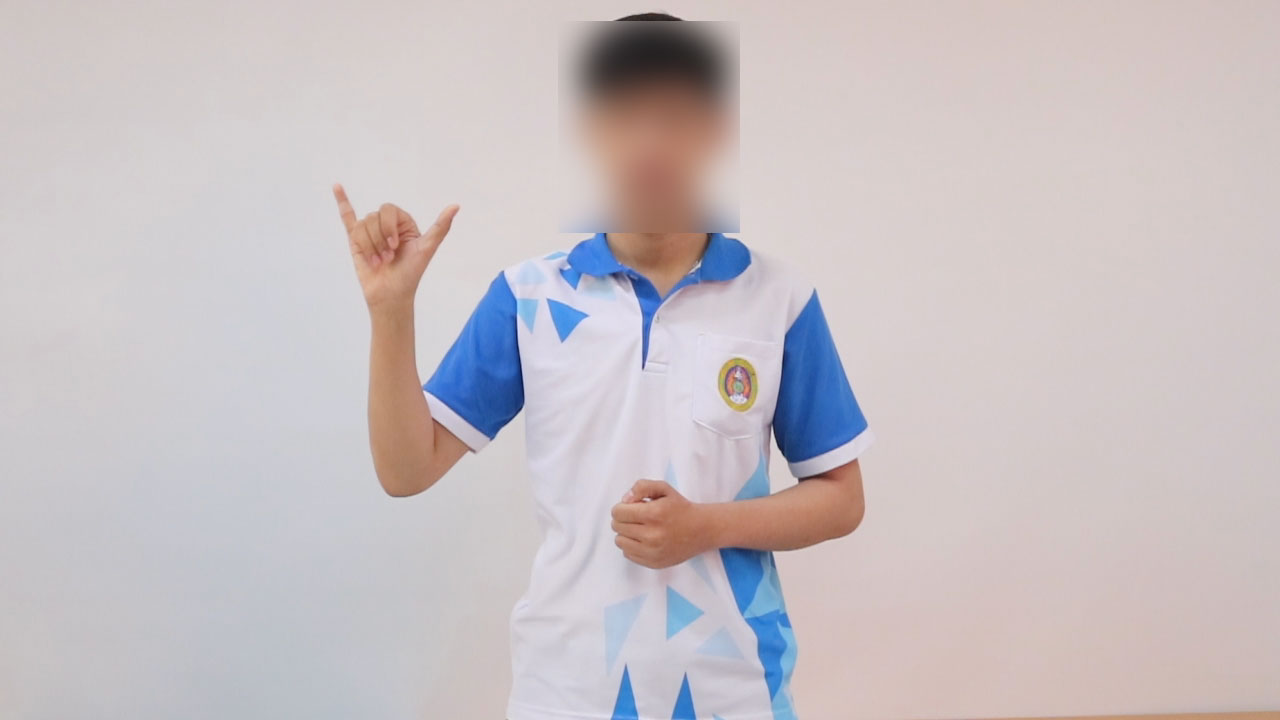yor: (319, 175, 464, 309)
